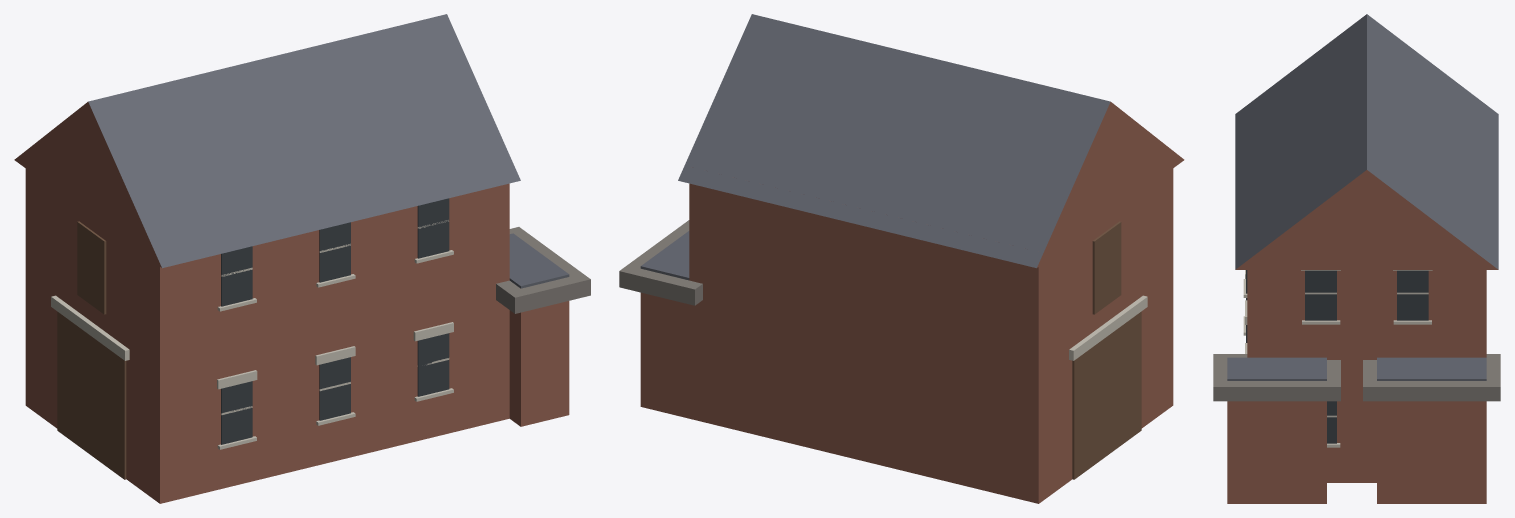
The model's file is house_2027_indiana_coach_house__draft_1904.glb.
3 views of the same model, side by side, from view 1: azimuth 30°, elevation 25°; view 2: azimuth 150°, elevation 25°; view 3: azimuth 270°, elevation 25° (orthographic). The views are drawn at different scales.
Parts seen in each view (by area): view 1: house_2027_indiana_coach_house__draft_1904; view 2: house_2027_indiana_coach_house__draft_1904; view 3: house_2027_indiana_coach_house__draft_1904.
Part boxes in pixels (box(x1,y1,x2,y2)): house_2027_indiana_coach_house__draft_1904: box(14, 14, 590, 503); house_2027_indiana_coach_house__draft_1904: box(619, 14, 1184, 503); house_2027_indiana_coach_house__draft_1904: box(1213, 14, 1500, 503).
Size of the model in its own units: 10.72 by 8.72 by 7.2.
